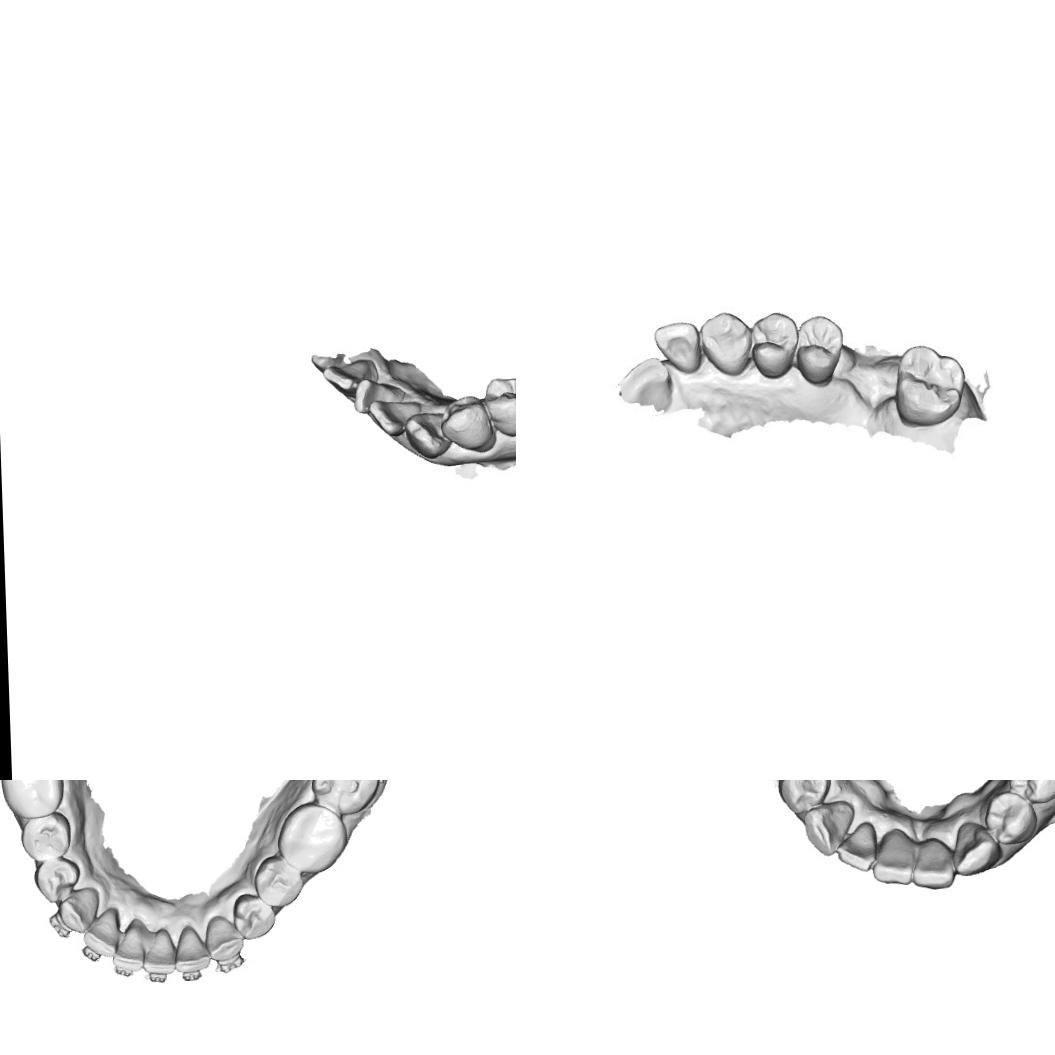canine: (699, 304, 757, 379), (802, 798, 856, 858), (952, 818, 1002, 878), (402, 409, 450, 460), (56, 885, 101, 936), (203, 912, 246, 963)
incisor: (648, 318, 702, 377), (870, 827, 916, 886), (910, 835, 958, 891), (834, 819, 881, 873), (366, 397, 424, 439), (352, 376, 409, 416), (80, 906, 120, 962), (173, 922, 213, 975), (141, 926, 178, 979), (110, 923, 146, 976), (320, 357, 372, 393)
molar: (890, 340, 966, 427), (274, 800, 352, 876), (308, 780, 383, 817), (0, 780, 62, 821)
premolar: (790, 312, 846, 386), (748, 308, 800, 380), (983, 788, 1040, 846), (438, 394, 494, 451), (251, 852, 306, 910), (18, 813, 74, 863), (30, 854, 82, 905), (230, 890, 278, 941), (480, 374, 516, 439), (776, 780, 833, 816), (1005, 780, 1055, 806)
